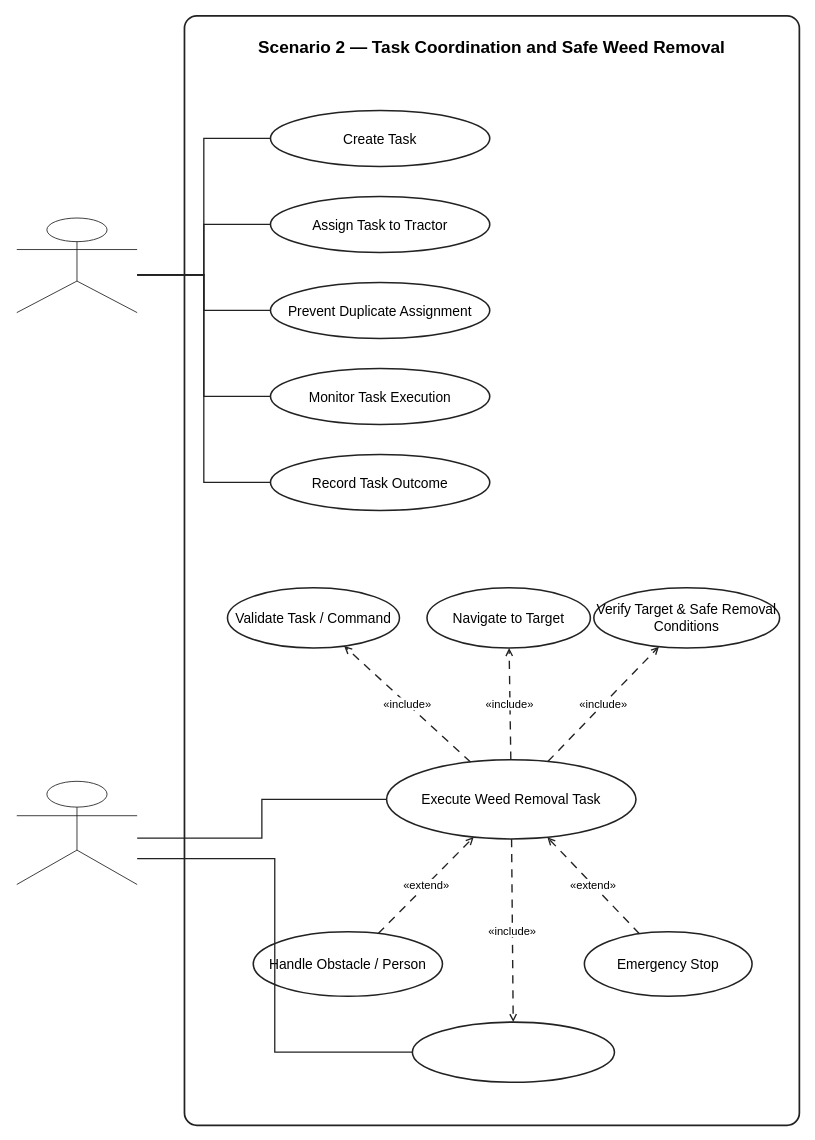
This 815x1140 diagram has some shape labels left out. Here are the shapes that lost their labels. From the top down, the centre of each, then its label:
At point 76,265: "Control Station".
At point 76,832: "Autonomous Tractor".
At point 513,1052: "Report Task Outcome".
